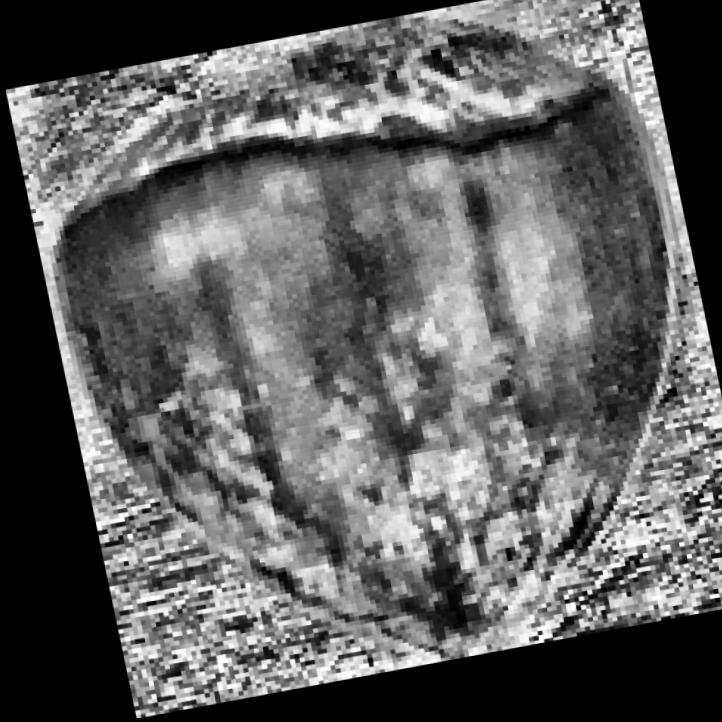qualityHazelnut: (0, 0, 722, 722)
